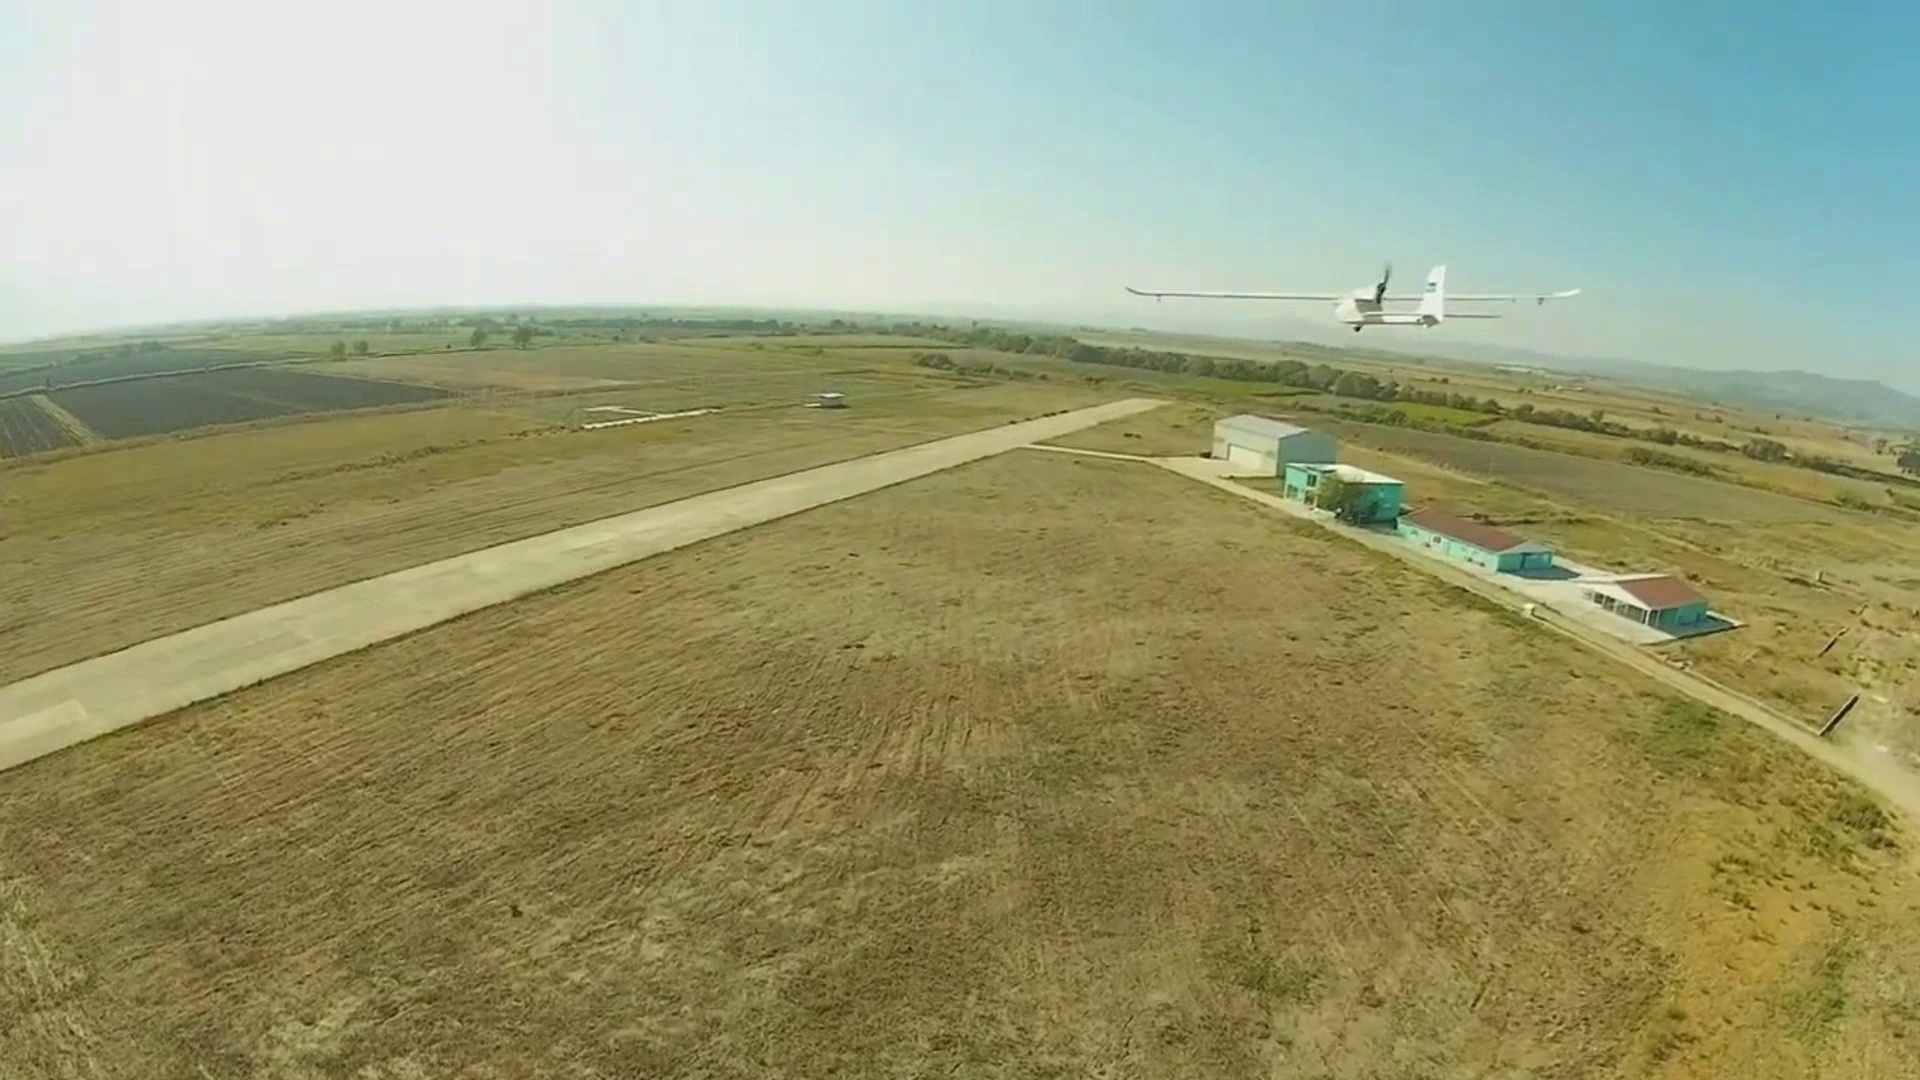airplane: (1122, 257, 1586, 336), (1339, 259, 1495, 331)
